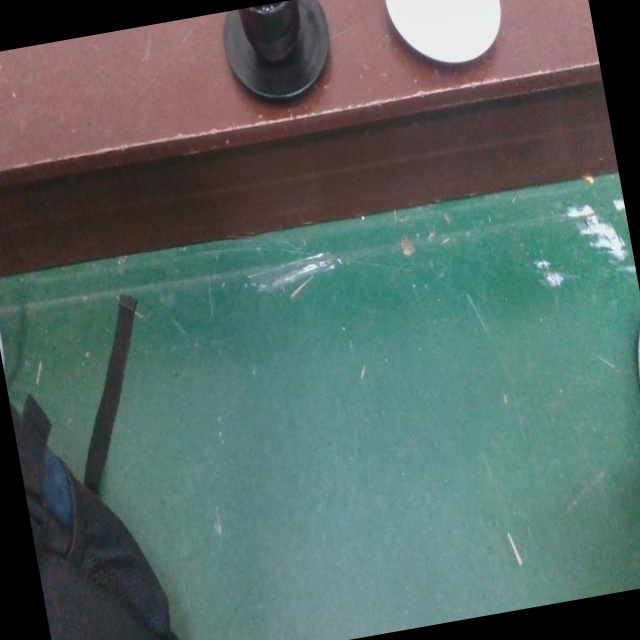black: (224, 3, 334, 109)
white: (388, 0, 504, 69)
